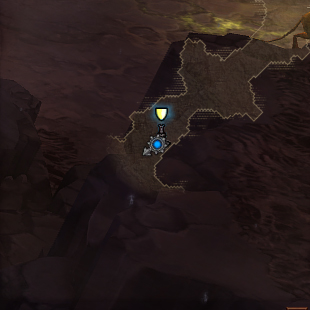ShieldPylon: (153, 105, 171, 149)
